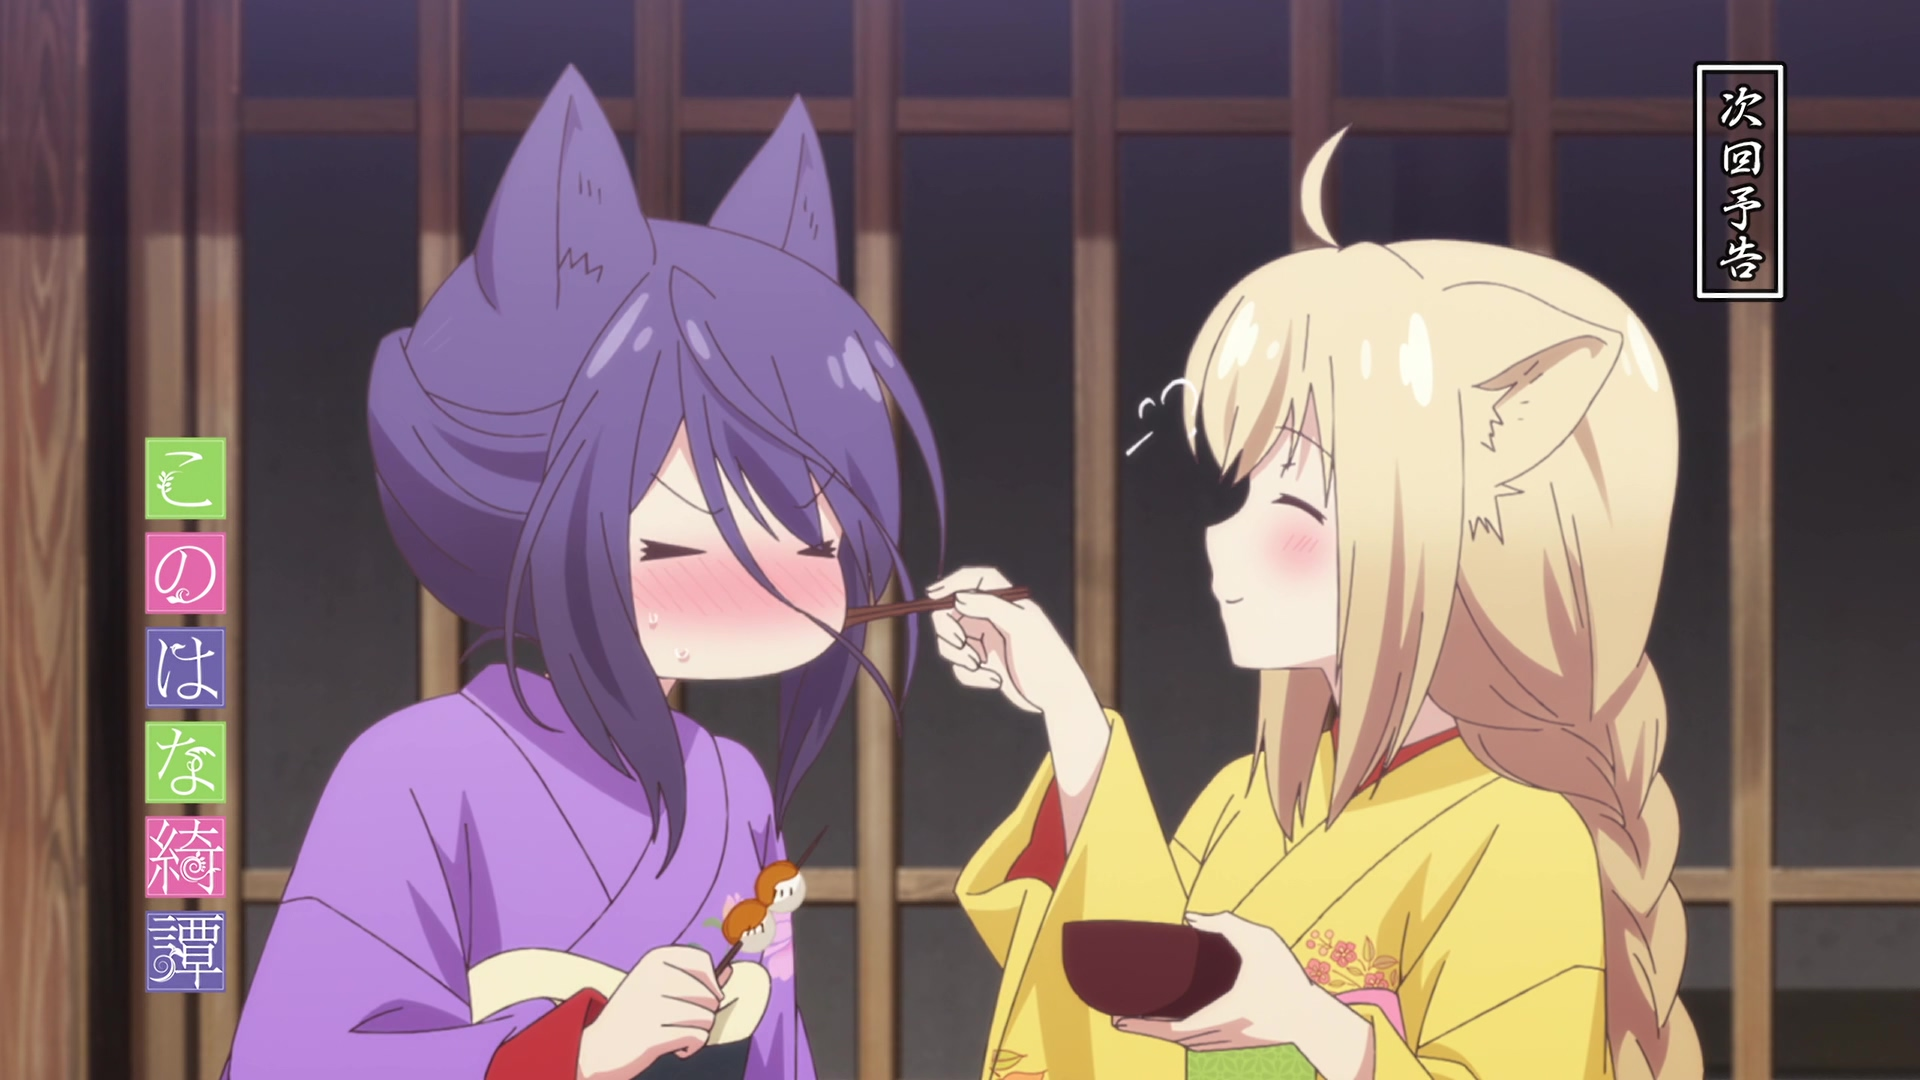柚: (847, 128, 1701, 1080)
皋: (228, 63, 947, 1080)
